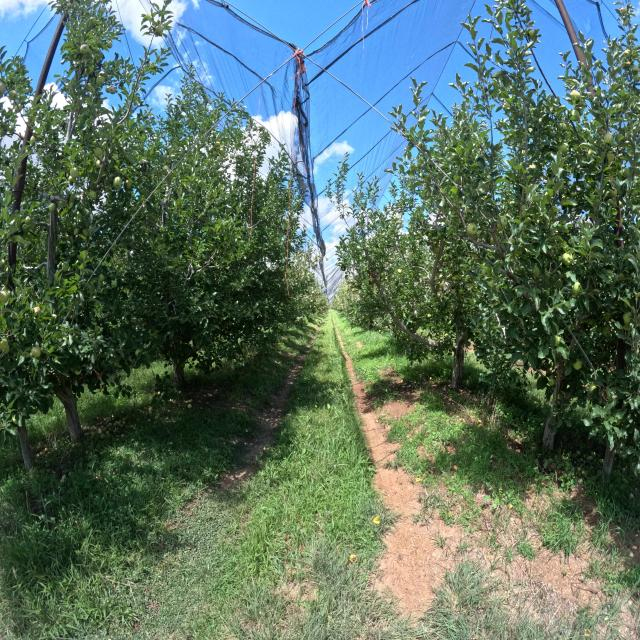-FireBlight-: (368, 267, 379, 287)
